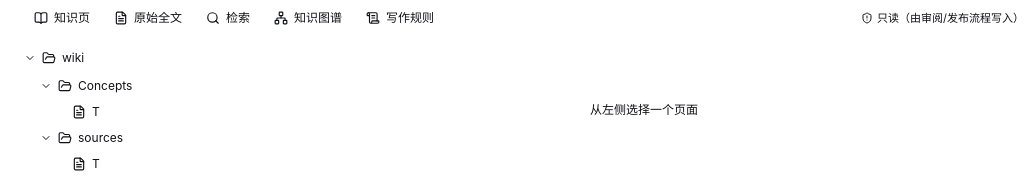
Test case: KbWikiTab 知识检索（issue 14 统一检索） › 检索无结果：空态提示
This screenshot has width=1036, height=188.
Expected: the element with test id "wiki-group-Concepts" is shown, [12, 72, 252, 124]
Click the button with test id "kb-wiki-search-tab". click: (228, 18)
box: [196, 6, 260, 30]
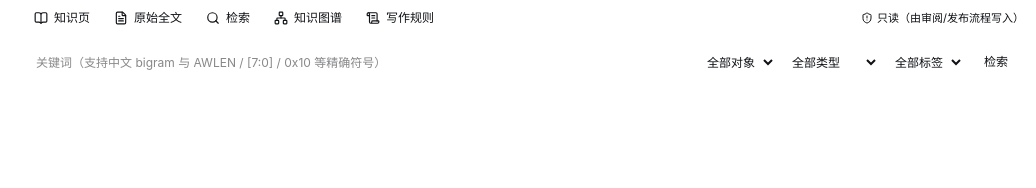
Result: the element with test id "kb-wiki-search" is shown at [28, 48, 1020, 76]
Type "不存在" into the field with test id "kb-wiki-search-input". click: (360, 62)
box: [28, 48, 691, 76]
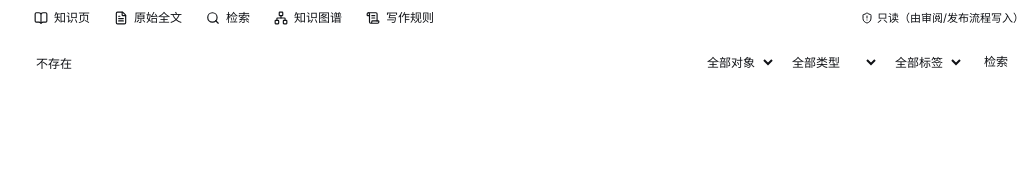
Click the button with test id "kb-wiki-search-run". click: (996, 62)
box: [972, 48, 1020, 76]
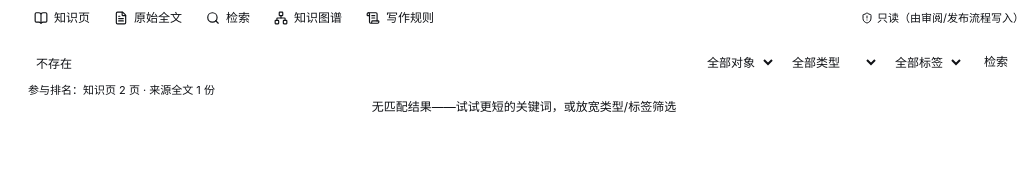
Result: the text "无匹配结果——试试更短的关键词，或放宽类型/标签筛选" is shown at [372, 98, 676, 114]
